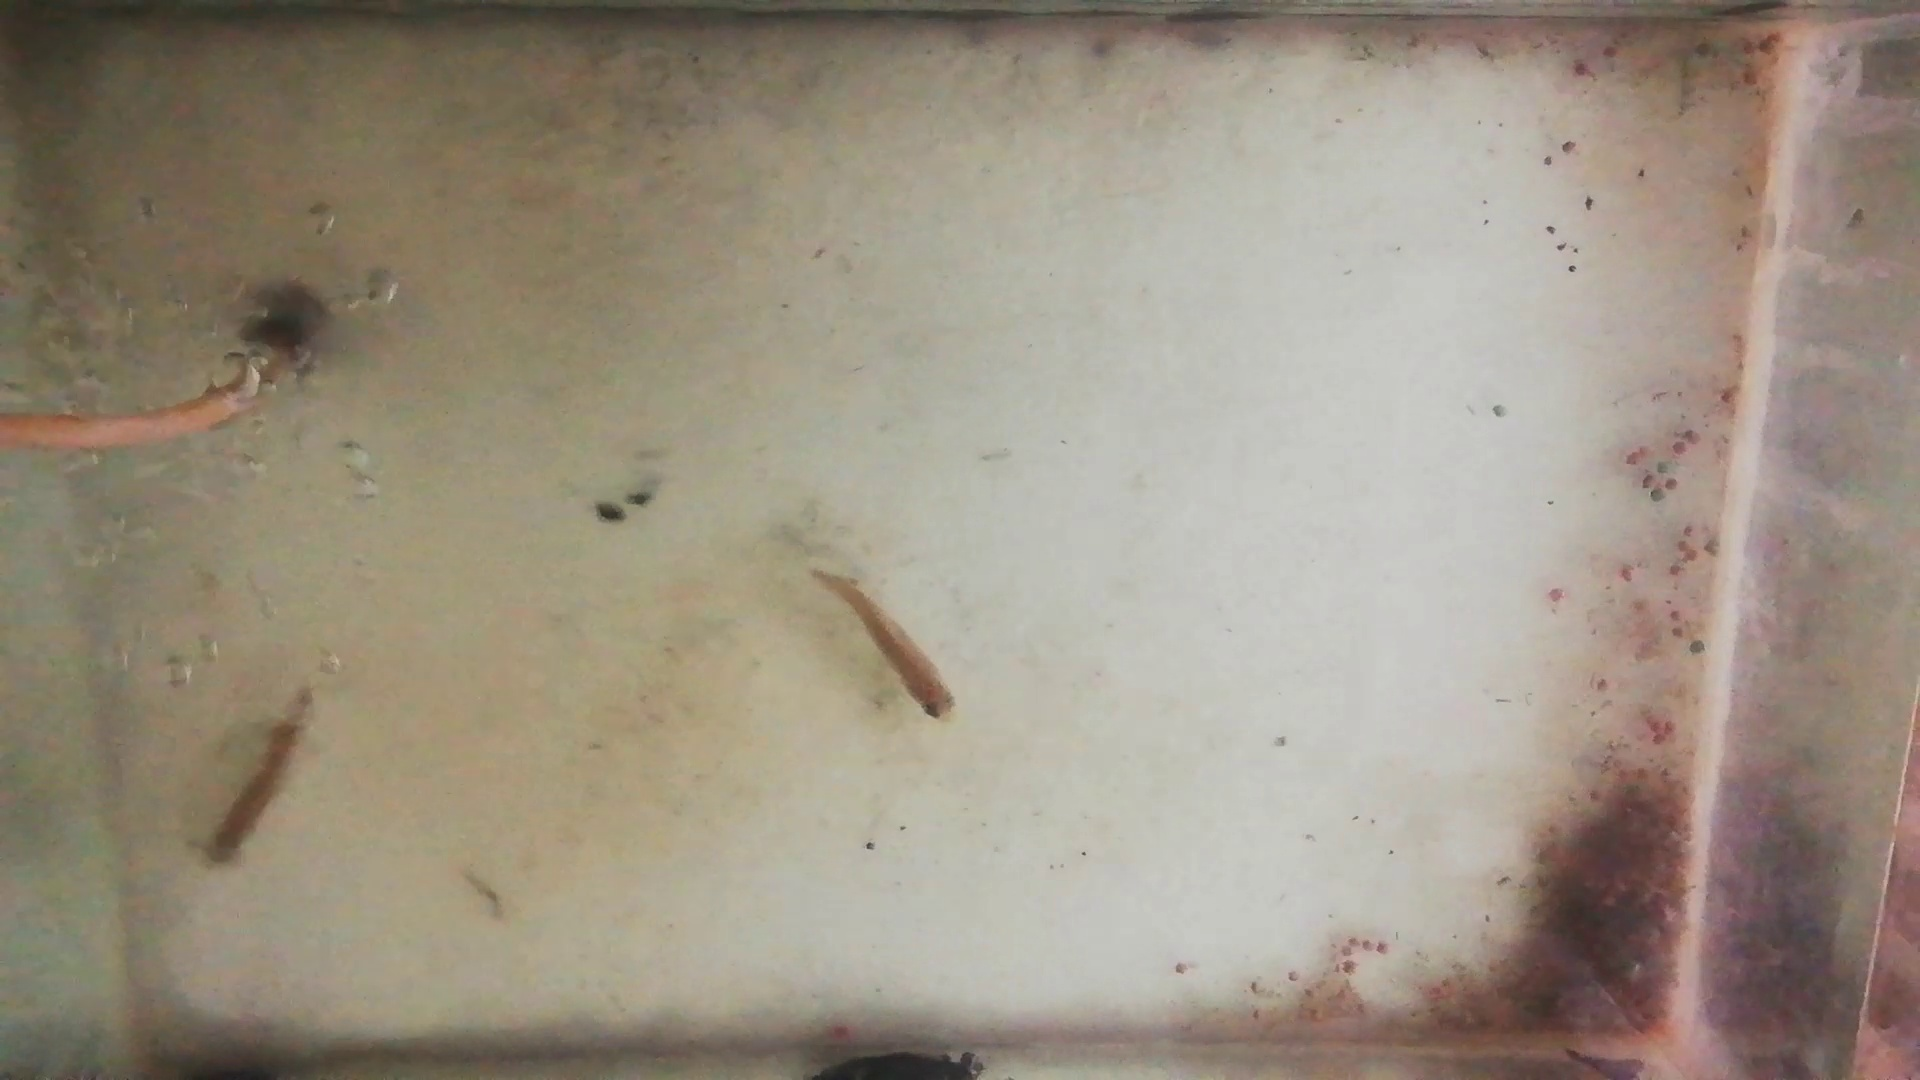fish: (814, 566, 963, 728), (196, 684, 315, 872)
